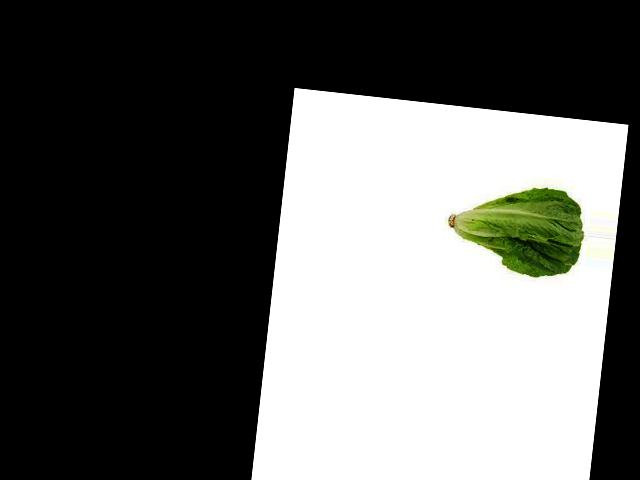lettuce: (439, 177, 586, 277)
